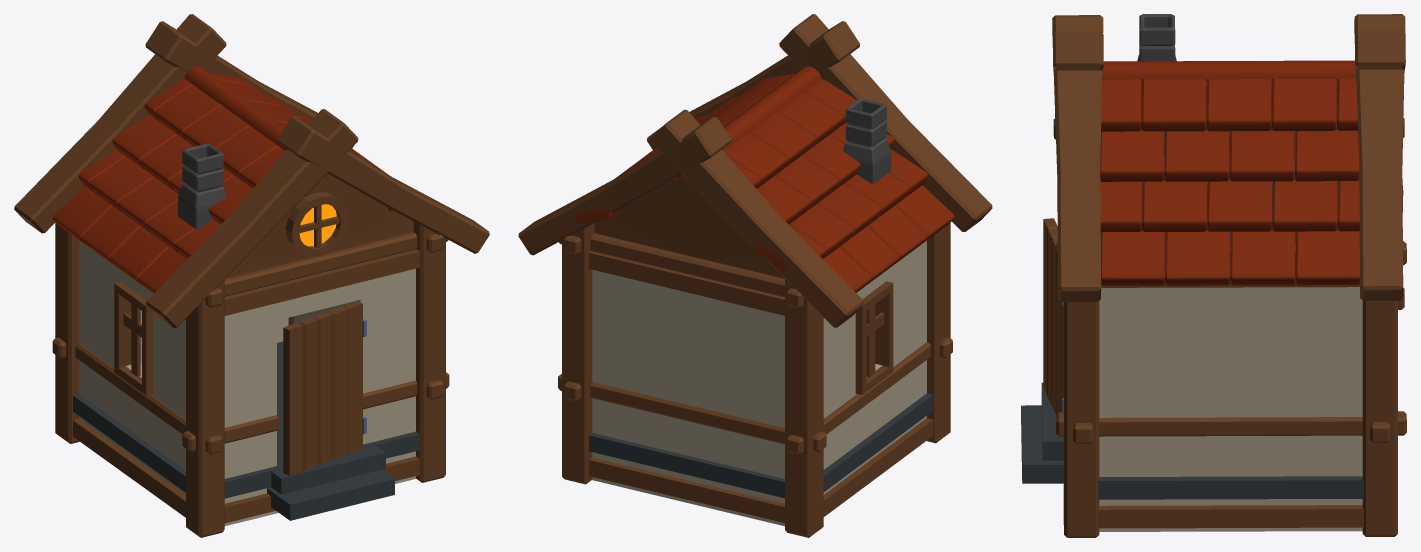
File: house.gltf
3 views of the same model, side by side, from view 1: azimuth 30°, elevation 25°; view 2: azimuth 150°, elevation 25°; view 3: azimuth 270°, elevation 25° (orthographic). The views are drawn at different scales.
Parts seen in each view (by area): view 1: Cube.038, Cube.015, Cube.021, Cube.017, Cube.026, Cube.028, Cube.022, Cube.040, Cube.027, Cube.019, Cube.020, Cube.046 (+25 smaller); view 2: Cube.018, Cube.038, Cube.017, Cube.027, Cube.040, Cube.029, Cube.022, Cube.019, Cube.026, Cube.033, Cube.020, Cube.044 (+20 smaller); view 3: Cube.016, Cube.038, Cube.028, Cube.029, Cube.019, Cube.022, Cube.042, Cube.069, Cube.053, Cube.051, Cube.054, Cube.052 (+19 smaller).
Part boxes in pixels (bbox=[...]): Cube.038: bbox=[14, 14, 489, 328]; Cube.015: bbox=[224, 268, 416, 526]; Cube.021: bbox=[283, 301, 366, 475]; Cube.017: bbox=[79, 240, 185, 517]; Cube.026: bbox=[186, 279, 224, 537]; Cube.028: bbox=[413, 221, 445, 482]; Cube.022: bbox=[73, 341, 419, 498]; Cube.040: bbox=[225, 173, 413, 278]; Cube.027: bbox=[55, 222, 79, 443]; Cube.019: bbox=[73, 418, 419, 523]; Cube.020: bbox=[224, 249, 419, 315]; Cube.046: bbox=[114, 282, 152, 395]; Cube.018: bbox=[592, 270, 784, 526]; Cube.038: bbox=[518, 14, 992, 327]; Cube.017: bbox=[823, 240, 926, 516]; Cube.027: bbox=[785, 278, 823, 537]; Cube.040: bbox=[594, 175, 784, 278]; Cube.029: bbox=[562, 223, 594, 484]; Cube.022: bbox=[589, 393, 933, 498]; Cube.019: bbox=[589, 418, 933, 522]; Cube.026: bbox=[927, 222, 950, 443]; Cube.033: bbox=[559, 233, 784, 297]; Cube.020: bbox=[589, 251, 784, 315]; Cube.044: bbox=[558, 374, 826, 452]; Cube.016: bbox=[1099, 287, 1362, 531]; Cube.038: bbox=[1052, 14, 1405, 301]; Cube.028: bbox=[1063, 301, 1099, 537]; Cube.029: bbox=[1362, 301, 1397, 536]; Cube.019: bbox=[1098, 505, 1363, 528]; Cube.022: bbox=[1098, 476, 1363, 499]; Cube.042: bbox=[1056, 411, 1406, 436]; Cube.069: bbox=[1102, 60, 1356, 79]; Cube.053: bbox=[1230, 108, 1295, 285]; Cube.051: bbox=[1165, 117, 1230, 285]; Cube.054: bbox=[1295, 108, 1359, 285]; Cube.052: bbox=[1100, 120, 1165, 285].
Size of the model in its own units: 0.4514 by 0.5009 by 0.3931.
